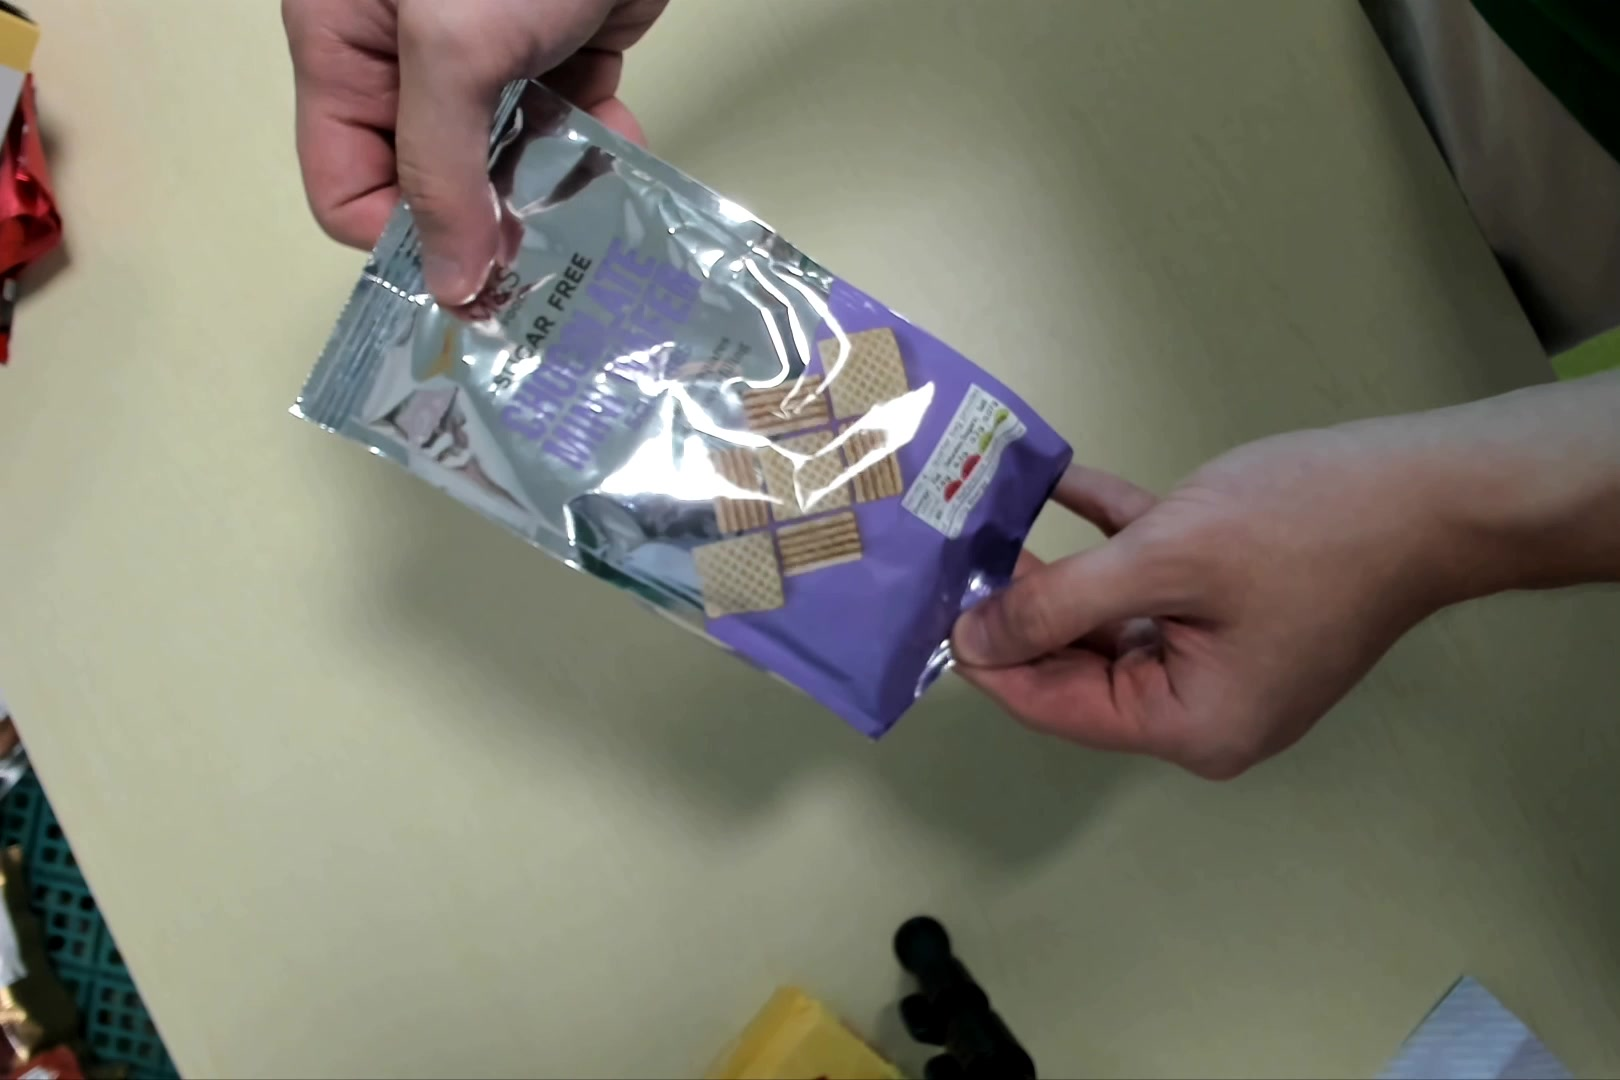SweetsChocolatesOthers_100-199g_NonHalal_NonHealthy: (271, 80, 1063, 742)
